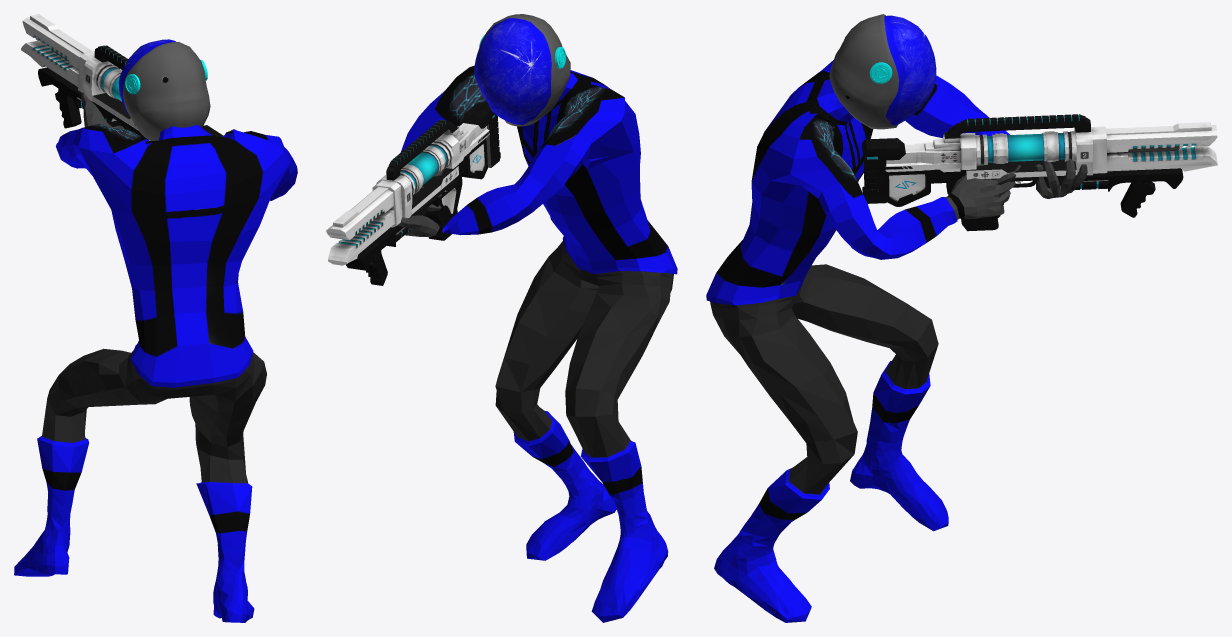
The picture shows the model from 3 angles, left to right: view 1: azimuth 30°, elevation 25°; view 2: azimuth 150°, elevation 25°; view 3: azimuth 270°, elevation 25°; orthographic projection. The views are drawn at different scales.
Parts seen in each view (by area): view 1: Brazos2, Piernas1, Cabeza1, Line0011; view 2: Piernas1, Brazos2, Line0011, Cabeza1; view 3: Piernas1, Brazos2, Line0011, Cabeza1.
Boxes of the visible parts, left/top/right/bottom form: Brazos2: left=56, top=92, right=297, bottom=387; Piernas1: left=14, top=348, right=266, bottom=622; Cabeza1: left=118, top=39, right=210, bottom=140; Line0011: left=21, top=14, right=223, bottom=140; Piernas1: left=495, top=241, right=673, bottom=622; Brazos2: left=398, top=65, right=677, bottom=274; Line0011: left=326, top=102, right=500, bottom=285; Cabeza1: left=474, top=14, right=570, bottom=126; Piernas1: left=710, top=264, right=948, bottom=622; Brazos2: left=706, top=60, right=1087, bottom=305; Line0011: left=862, top=114, right=1217, bottom=231; Cabeza1: left=829, top=14, right=936, bottom=129.
Size of the model in its own units: 75.28 by 158 by 125.
